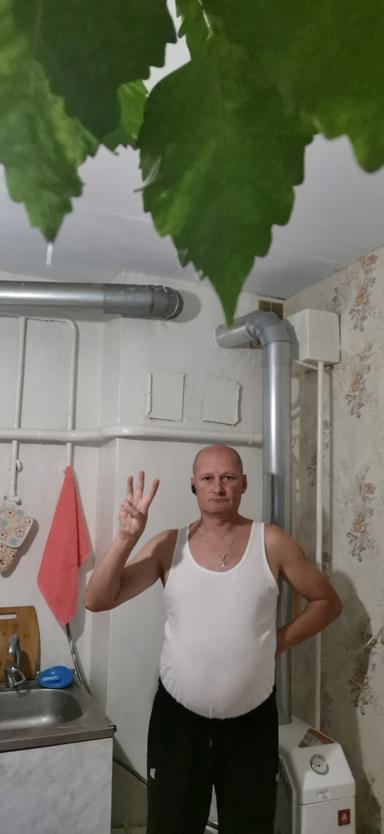three: (116, 468, 164, 541)
